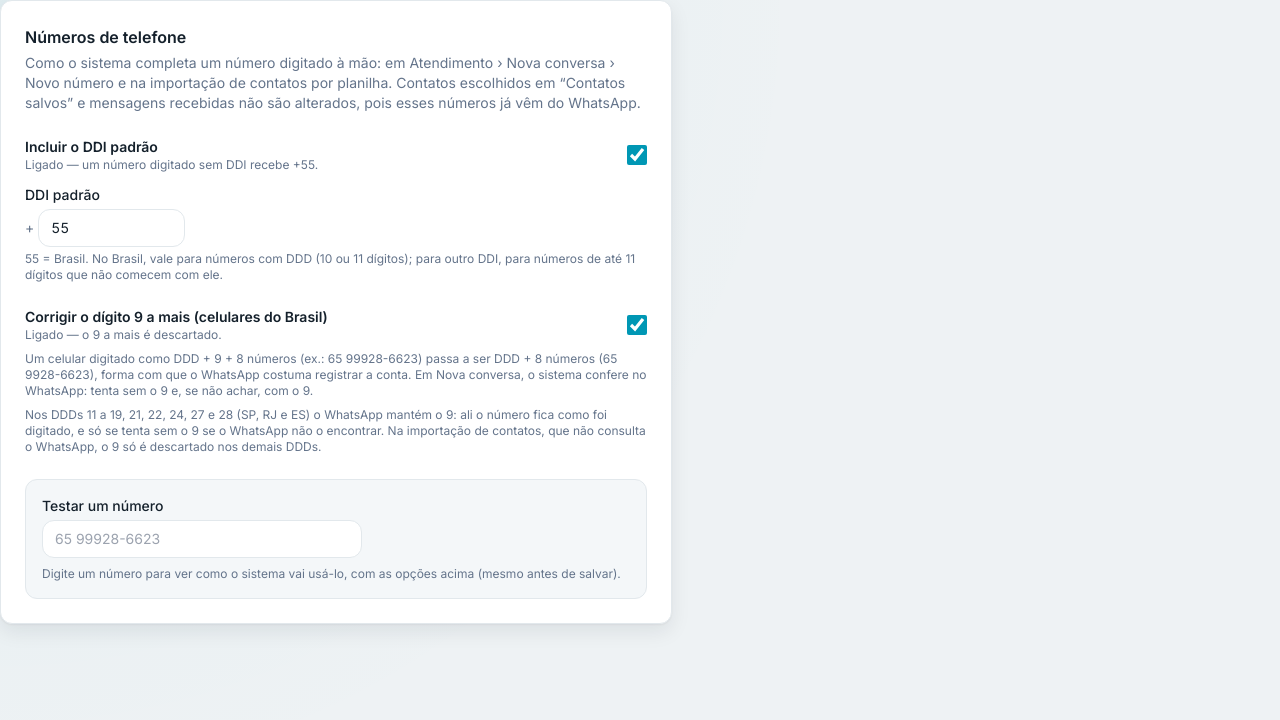
it: Configurações › Números de telefone › não mexe no número de SP, onde o WhatsApp mantém o 9
Expected: the switch labelled "Incluir o DDI padrão" is shown, [627,145,647,165]
Type "11 98765-4321" into the field labelled "Testar um número". click: (202, 539)
box: [42,520,362,558]
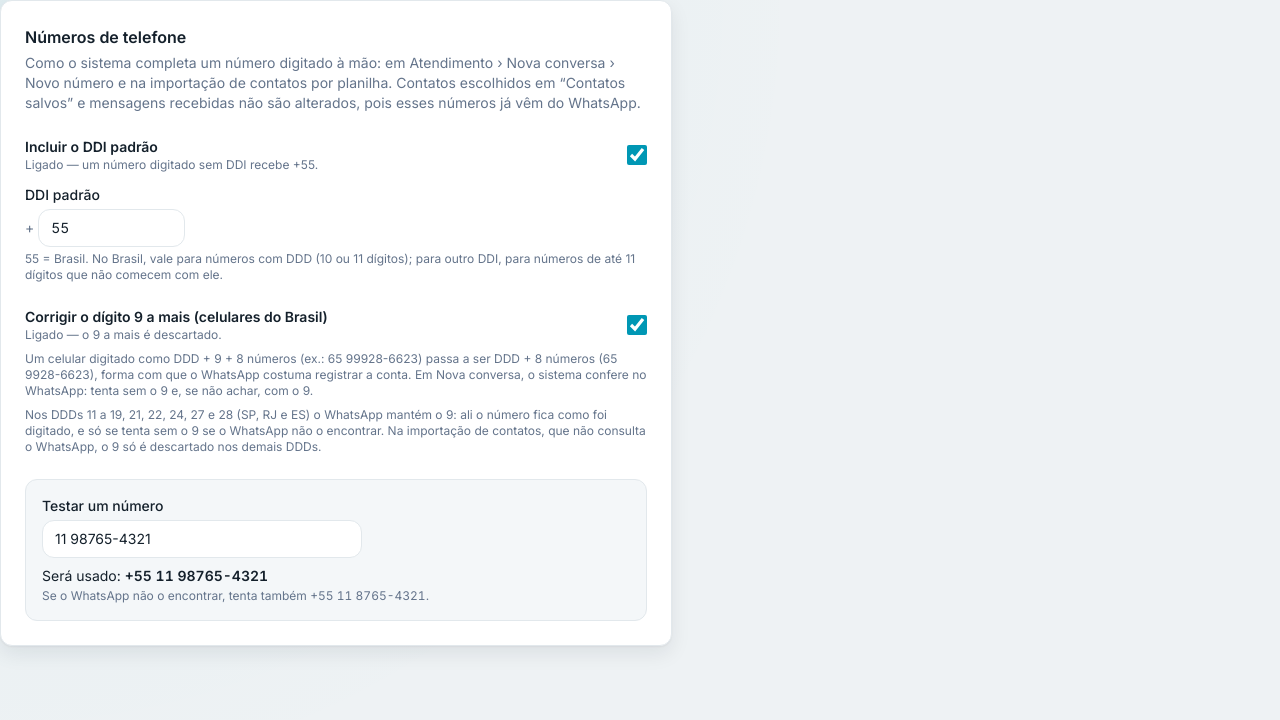
Now the text "+55 11 98765-4321" is shown, box [125,567,268,584]
Now the text "tenta também" shows "+55 11 8765-4321", box [310,588,426,603]
